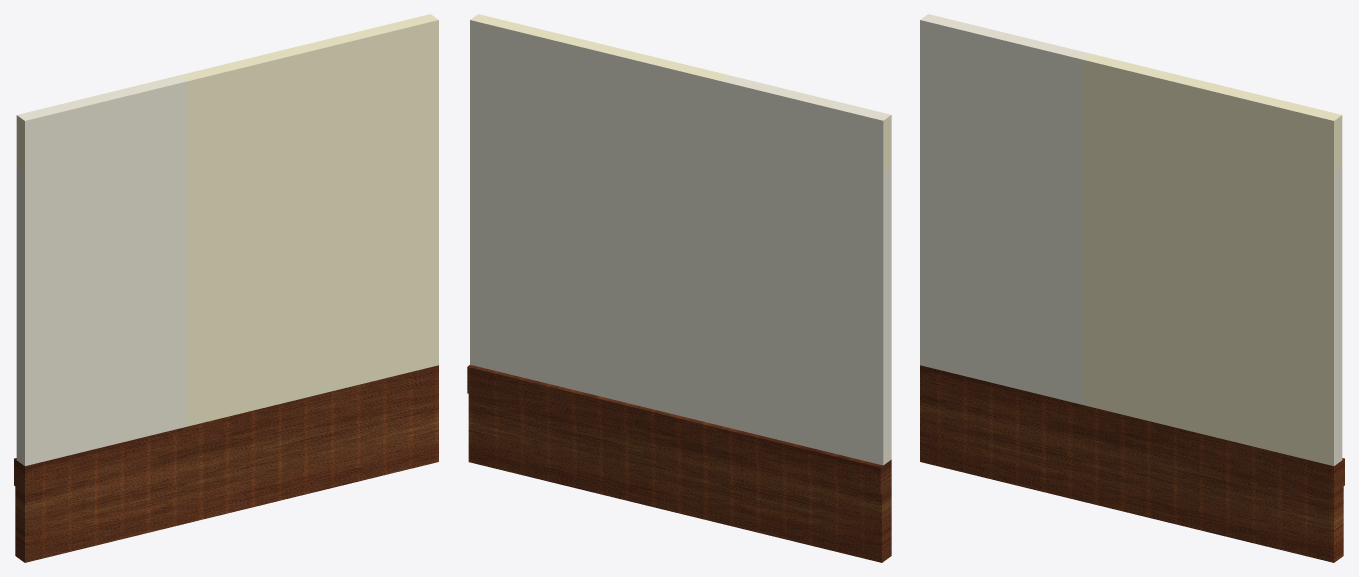
File: doorwall.fbx
3 renders of one model, left to right at view 1: azimuth 30°, elevation 25°; view 2: azimuth 150°, elevation 25°; view 3: azimuth 330°, elevation 25°, orthographic.
Visible parts, largest first — view 1: pCube44; view 2: pCube44; view 3: pCube44.
Part boxes in pixels (left/top/right/bottom): pCube44: left=14, top=14, right=438, bottom=562; pCube44: left=467, top=14, right=891, bottom=562; pCube44: left=920, top=14, right=1344, bottom=562.
Size of the model in its own units: 6.31 by 6.44 by 0.2846.
